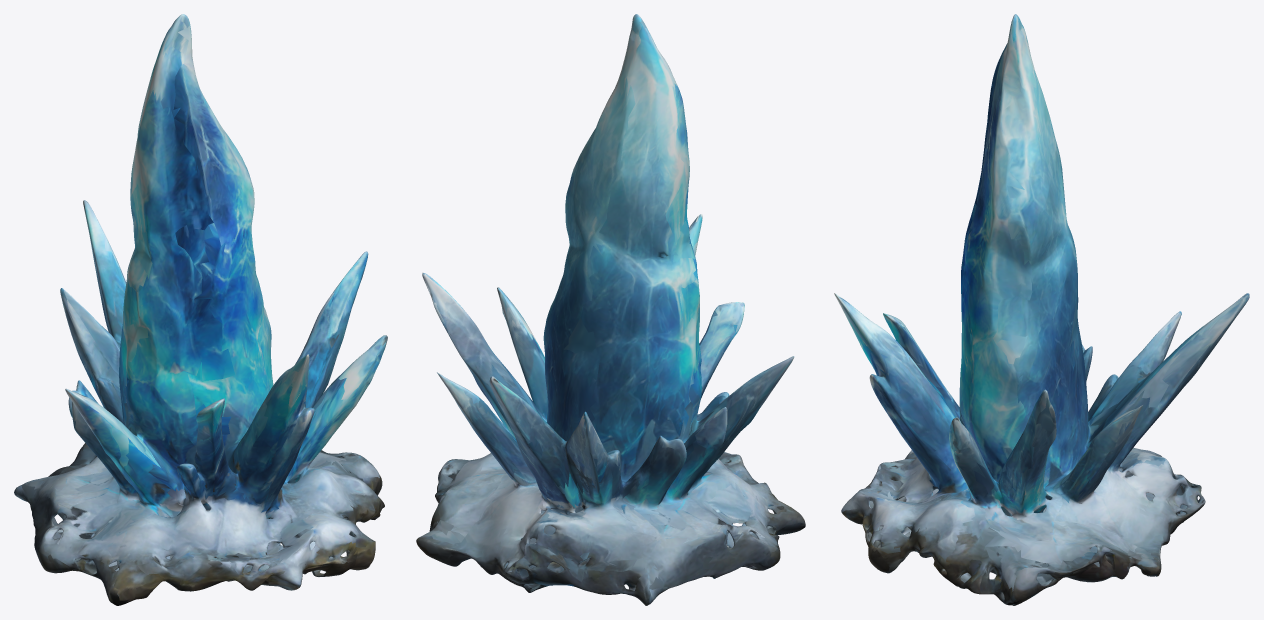
Rendered from ice_cluster_3_free.glb.
3 renders of one model, left to right at view 1: azimuth 30°, elevation 25°; view 2: azimuth 150°, elevation 25°; view 3: azimuth 270°, elevation 25°, orthographic. The views are drawn at different scales.
Visible parts, largest first — view 1: Object_2; view 2: Object_2; view 3: Object_2.
Boxes of the visible parts, box(x1,y1,x2,y2) form: Object_2: box(14, 14, 387, 605); Object_2: box(416, 14, 805, 605); Object_2: box(834, 14, 1249, 605).
Size of the model in its own units: 1.31 by 1.96 by 1.45.
Materials: 1 (1 with a texture image).
